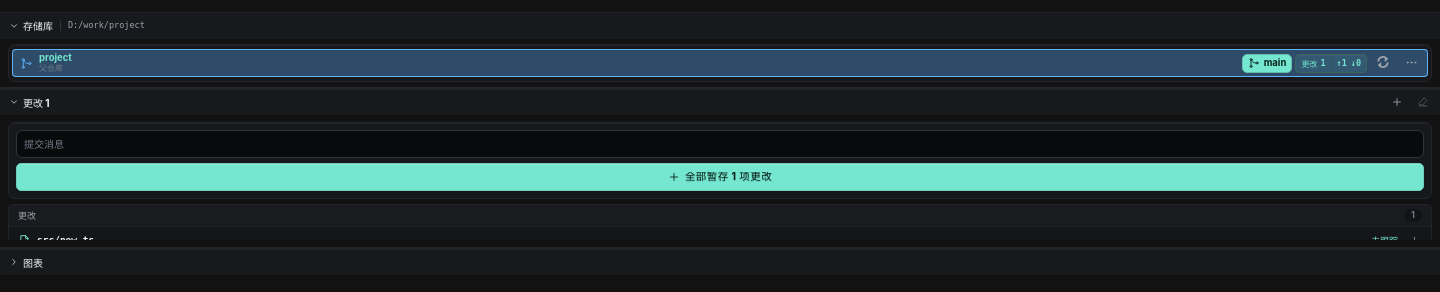
Test: GitPane basics and lifecycle › uses the aggregate button for stage-all without chaining into commit
The image size is (1440, 292).
Expected: the text "project" is shown, [39, 52, 72, 63]
Click the button "全部暂存 1 项更改". click: (720, 177)
box: [16, 163, 1424, 191]
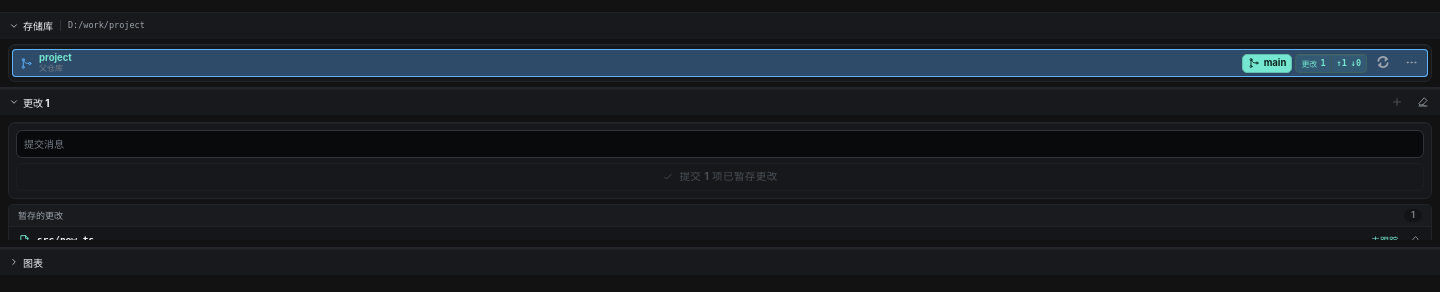
Now the button "提交 1 项已暂存更改" is disabled, box [16, 163, 1424, 191]
